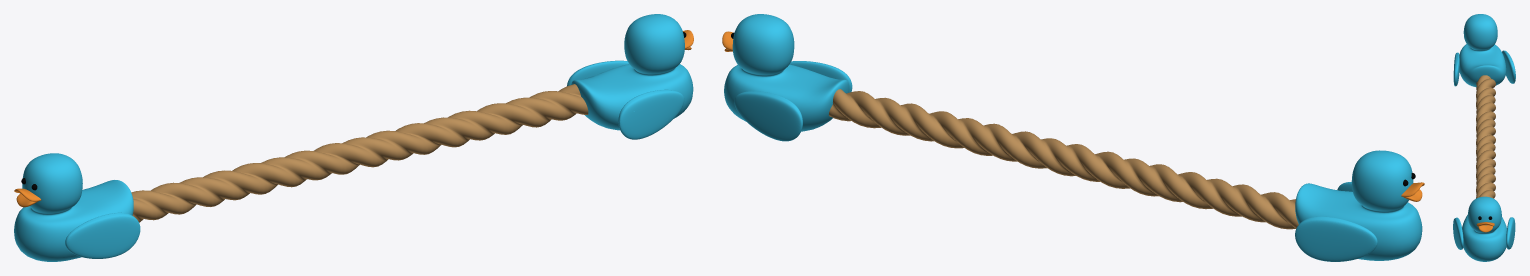
File: Something.glb
3 renders of one model, left to right at view 1: azimuth 30°, elevation 25°; view 2: azimuth 150°, elevation 25°; view 3: azimuth 270°, elevation 25°, orthographic. The views are drawn at different scales.
Parts seen in each view (by area): view 1: Cube.001; view 2: Cube.001; view 3: Cube.001.
Part boxes in pixels (bbox=[...]): Cube.001: bbox=[14, 14, 693, 261]; Cube.001: bbox=[722, 14, 1424, 261]; Cube.001: bbox=[1453, 14, 1515, 261].
Size of the model in its own units: 4.98 by 0.7848 by 0.6703.
